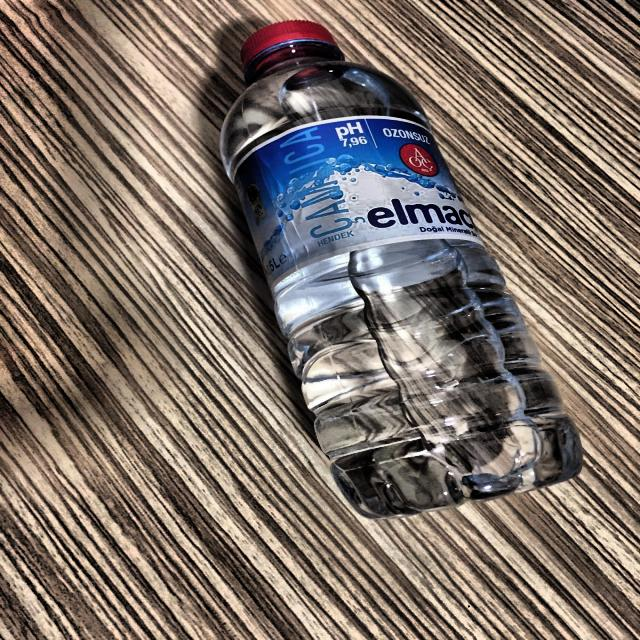plastic bottle: (221, 22, 582, 519)
